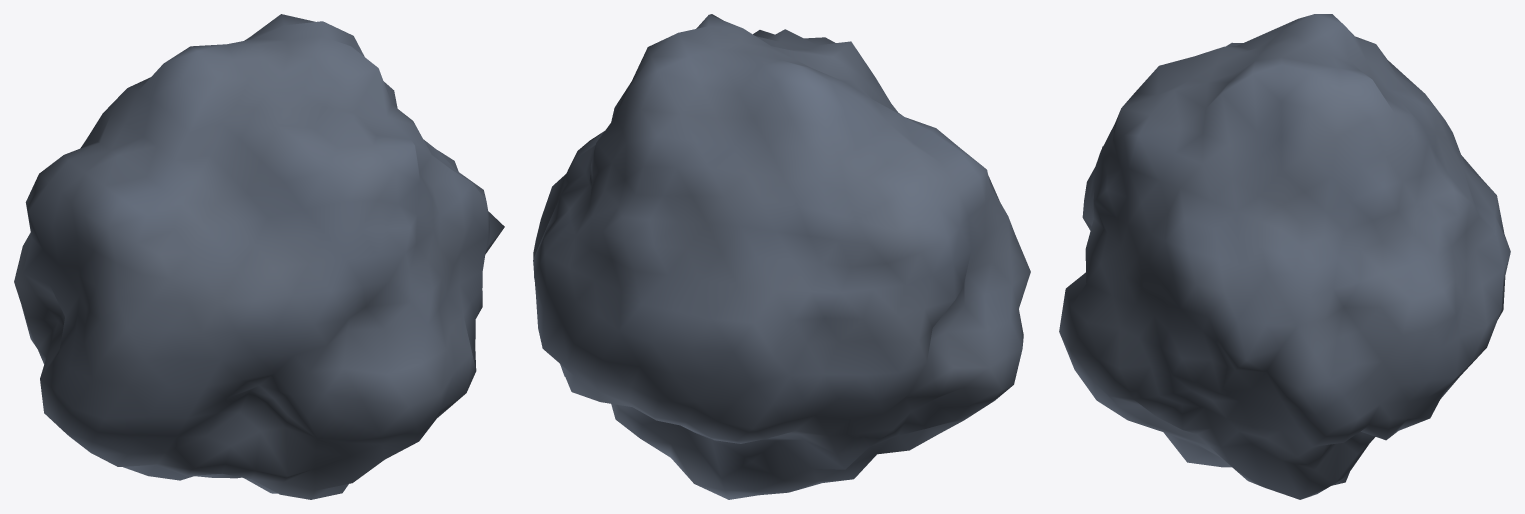
File: asteroid_01.glb
3 renders of one model, left to right at view 1: azimuth 30°, elevation 25°; view 2: azimuth 150°, elevation 25°; view 3: azimuth 270°, elevation 25°, orthographic.
Parts seen in each view (by area): view 1: Asteroid_01; view 2: Asteroid_01; view 3: Asteroid_01.
Part boxes in pixels (x1,y1,x2,y2): Asteroid_01: [14, 14, 504, 499]; Asteroid_01: [533, 14, 1030, 499]; Asteroid_01: [1059, 14, 1510, 499].
Bounding box in the file's own units: 2.35 × 2.23 × 2.06.
